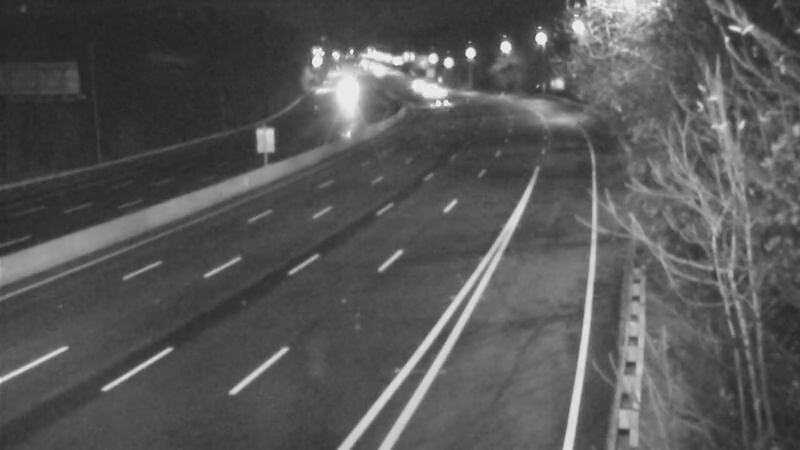vehicle: (384, 61, 434, 111), (405, 63, 455, 113), (415, 78, 465, 128)
